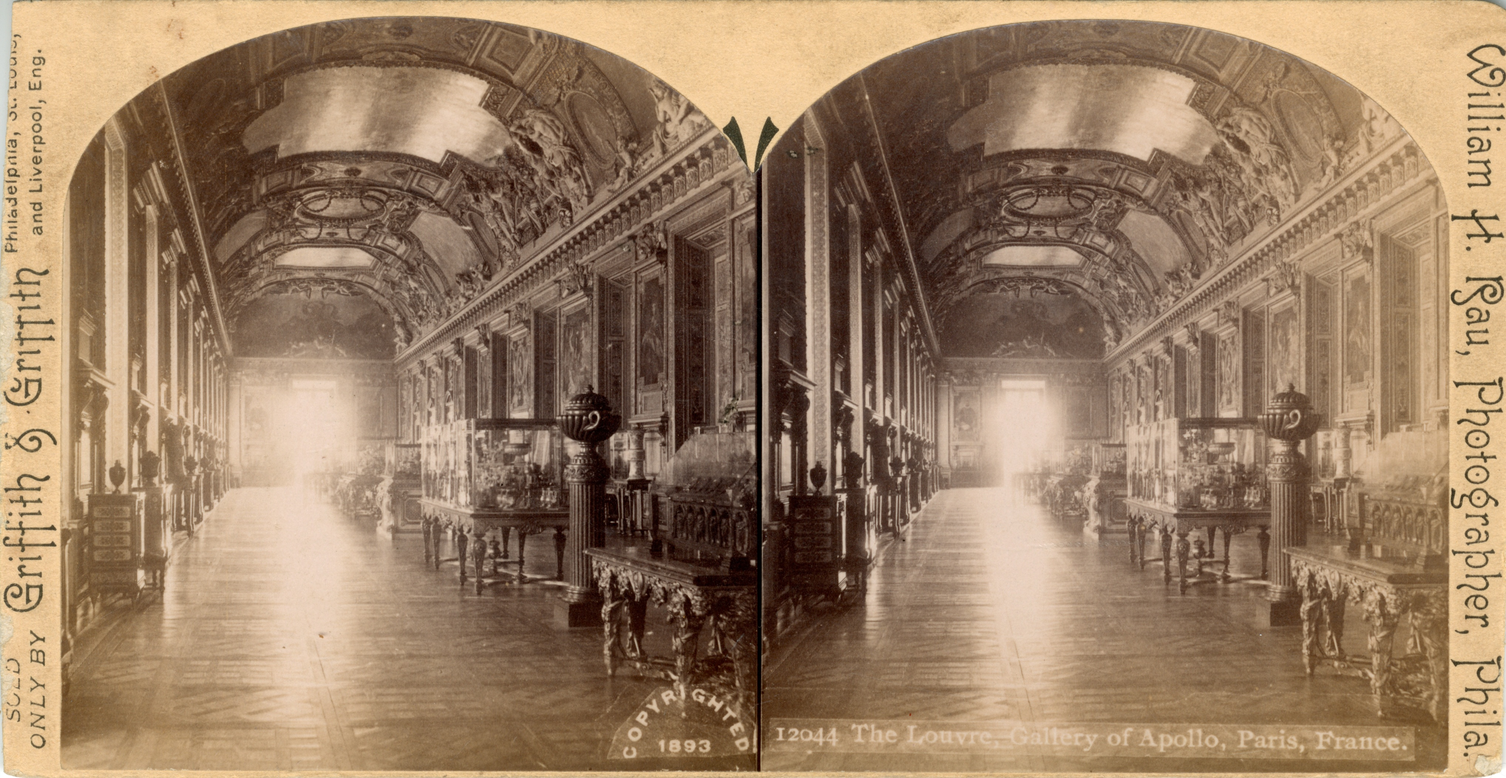half_image: (62, 14, 757, 771), (762, 19, 1451, 771)
